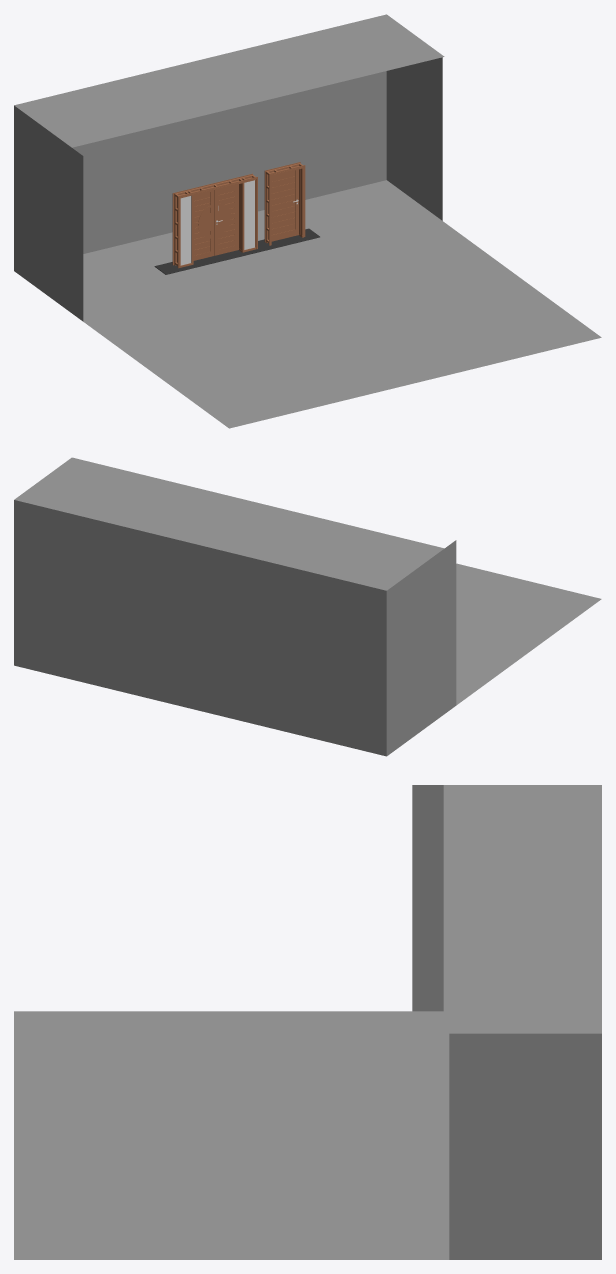
File: uploads_files_2412668_Main+Door.fbx
3 renders of one model, top to bottom at view 1: azimuth 30°, elevation 25°; view 2: azimuth 150°, elevation 25°; view 3: azimuth 270°, elevation 25°, orthographic. The views are drawn at different scales.
Parts seen in each view (by area): view 1: Plane, Plane.057, Plane.129, Plane.128, Plane.001, Cube.013, Cube.026, Cube.027, Cube.078; view 2: Plane; view 3: Plane.
Boxes of the visible parts, <box> form: Plane: <box>14,14,601,428</box>; Plane.057: <box>271,169,298,241</box>; Plane.129: <box>214,184,238,255</box>; Plane.128: <box>193,190,214,260</box>; Plane.001: <box>154,228,319,274</box>; Cube.013: <box>178,176,257,268</box>; Cube.026: <box>180,196,191,265</box>; Cube.027: <box>244,180,254,249</box>; Cube.078: <box>269,165,305,245</box>; Plane: <box>14,457,601,756</box>; Plane: <box>14,785,601,1259</box>.
Bounding box in the file's own units: 1159 × 493 × 1159.
